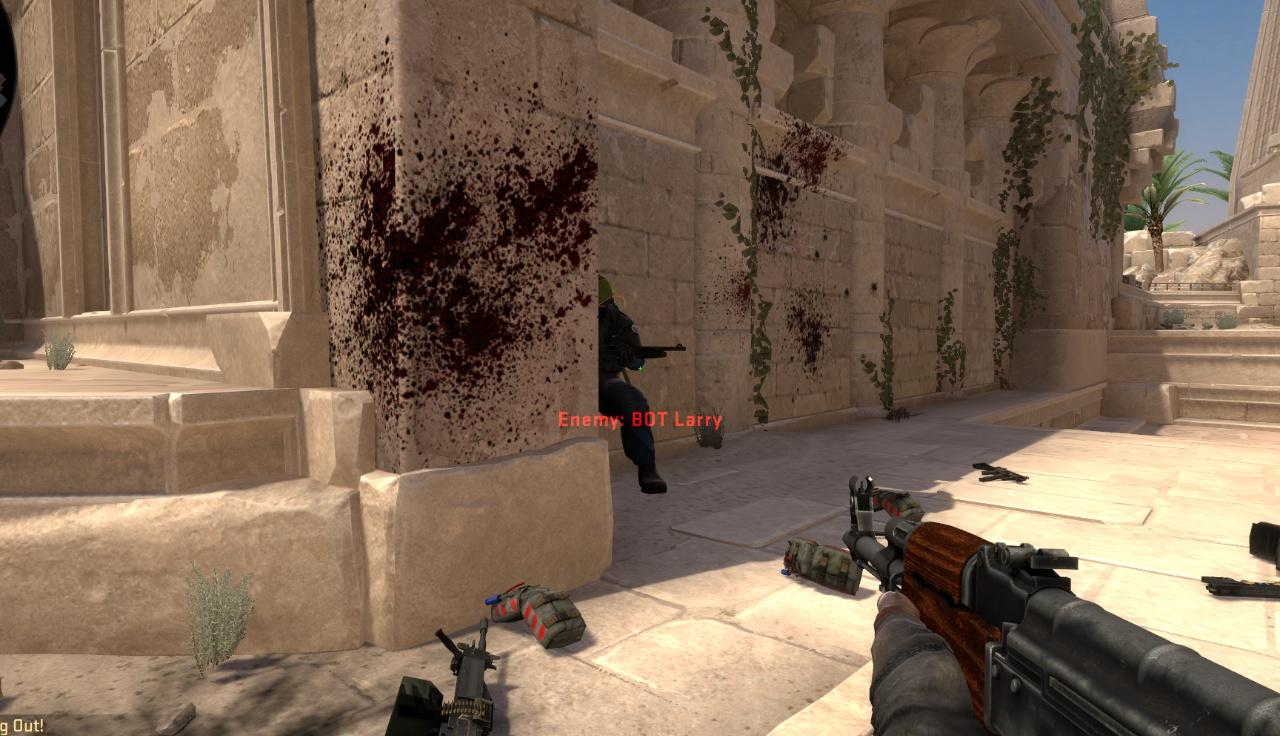ct: (597, 274, 659, 498)
rifle: (845, 474, 1280, 736)
